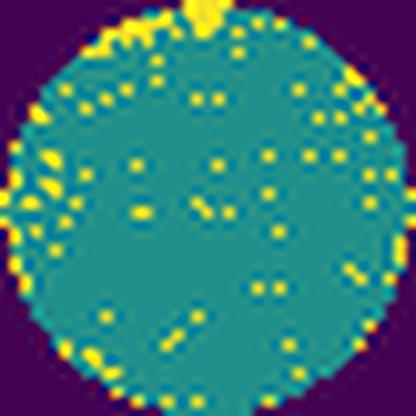Edge-Loc: (80, 0, 179, 65), (184, 0, 236, 41)
